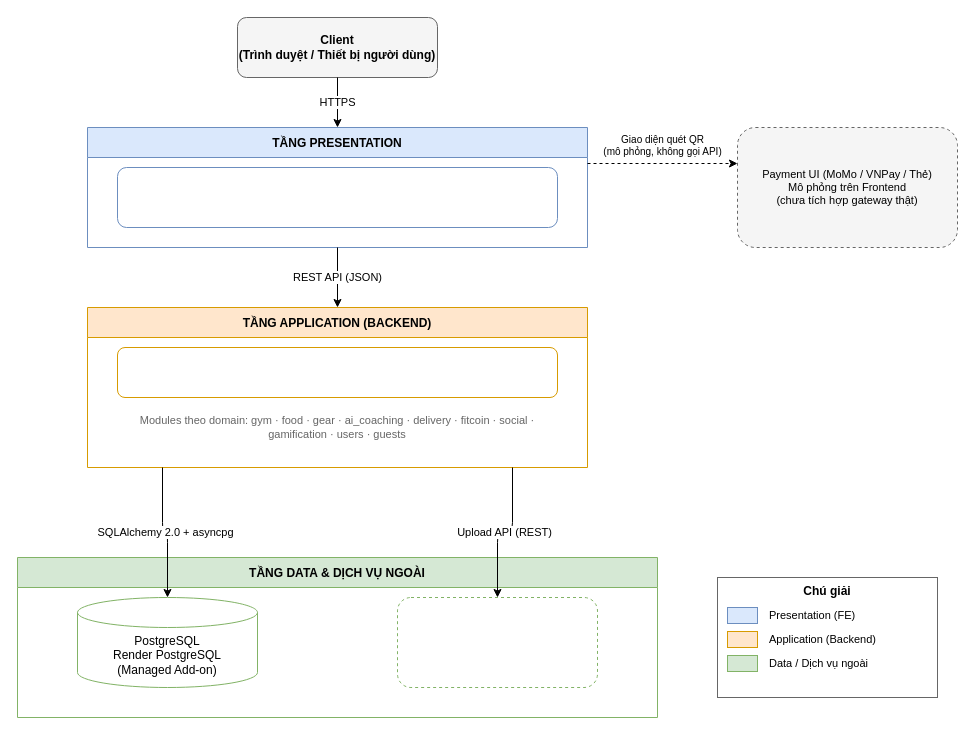
This 975x735 diagram has some shape labels left out. Each missing label, with the centre of its shape:
Cloudinary Lưu trữ & tối ưu hóa ảnh (WebP, resize, secure_url): pixel 497 642
FastAPI (Python, Async / asyncio) Hosting: Render Web Service: pixel 337 372
React 19 + Vite (SPA) Hosting: Vercel CDN: pixel 337 197
